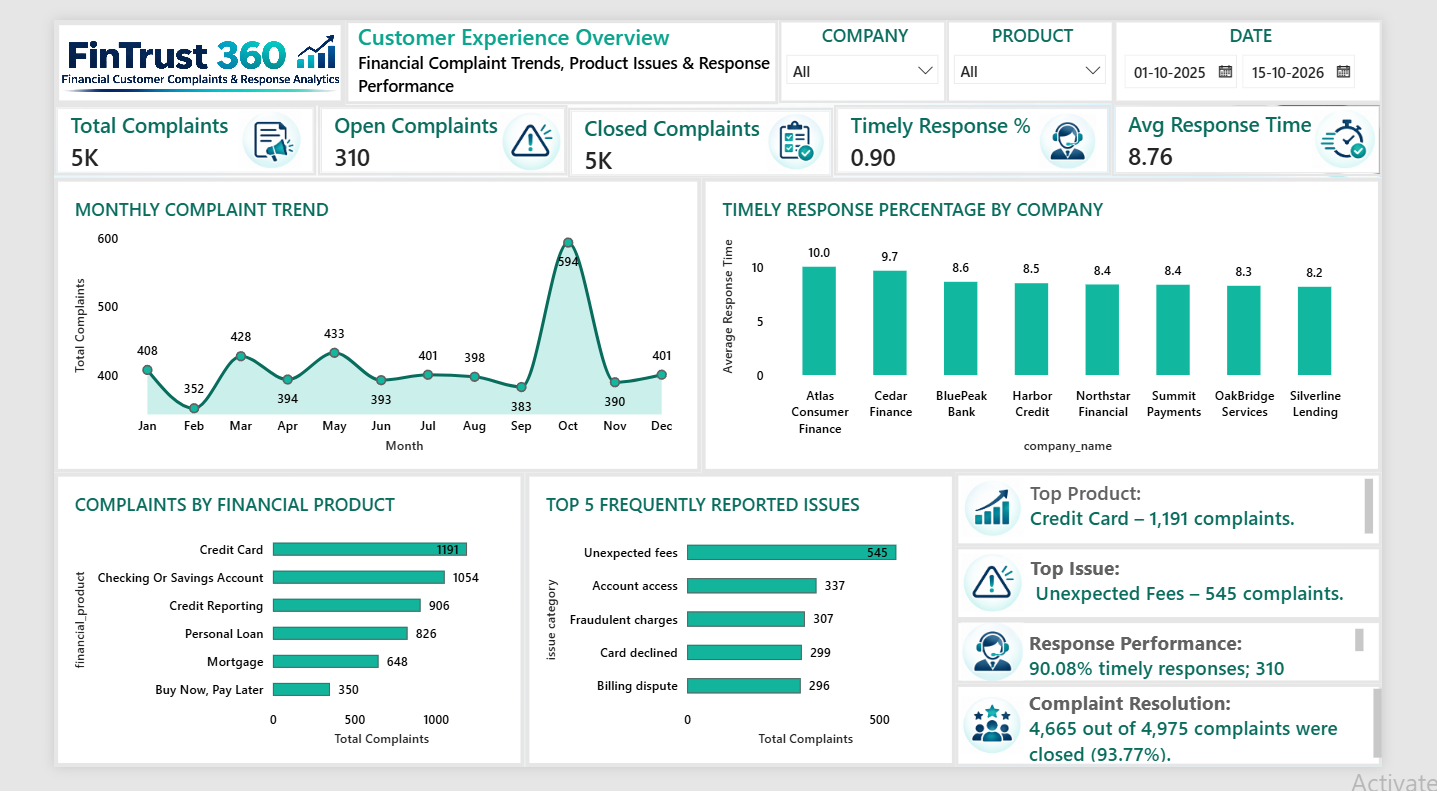

This screenshot's page, from the dashboard's own definition file:
{"tool":"powerbi","page":{"name":"Page 1","canvas":[1280,720],"ordinal":0},"visuals":[{"type":"shape","box":[0,0,281.2,82.5],"z":0},{"type":"image","box":[0,0,281.2,85],"z":1000},{"type":"shape","box":[281.2,0,417.5,81.2],"z":2000},{"type":"textbox","box":[292.5,1.2,467.5,68.8],"z":3000},{"type":"cardVisual","fields":{"Data":["FinTrust.Total Complaints"]},"box":[0,82.5,253.8,68.8],"z":4000},{"type":"cardVisual","fields":{"Data":["FinTrust.Open Complaints"]},"box":[253.8,82.5,241.2,68.8],"z":5000},{"type":"cardVisual","fields":{"Data":["FinTrust.Timely Response %"]},"box":[751.2,82.5,267.5,68.8],"z":6000},{"type":"cardVisual","fields":{"Data":["FinTrust.Closed Complaints"]},"box":[495,83.8,256.2,68.8],"z":7000},{"type":"cardVisual","fields":{"Data":["FinTrust.Average Response Time"]},"box":[1018.8,80,261.2,71.2],"z":8000},{"type":"lineChart","title":"MONTHLY COMPLAINT TREND","fields":{"Y":["FinTrust.Total Complaints"],"Category":["Calendar.Month"]},"box":[0,151.2,623.8,285],"z":9000},{"type":"clusteredBarChart","title":"COMPLAINTS BY FINANCIAL PRODUCT ","fields":{"Y":["FinTrust.Total Complaints"],"Category":["FinTrust.financial_product"]},"box":[0,436.2,453.8,283.8],"z":10000},{"type":"clusteredBarChart","title":"TOP 5 FREQUENTLY REPORTED ISSUES","fields":{"Y":["FinTrust.Total Complaints"],"Category":["FinTrust.issue_category"]},"box":[453.8,436.2,415,283.8],"z":11000},{"type":"clusteredColumnChart","title":"TIMELY RESPONSE PERCENTAGE  BY COMPANY","fields":{"Category":["FinTrust.company_name"],"Y":["FinTrust.Average Response Time"]},"box":[623.8,151.2,656.2,285],"z":12000},{"type":"slicer","title":"COMPANY","fields":{"Values":["FinTrust.company_name"]},"box":[698.8,0,161.2,80],"z":13000},{"type":"slicer","title":"PRODUCT","fields":{"Values":["FinTrust.financial_product"]},"box":[860,0,161.2,80],"z":14000},{"type":"slicer","title":"DATE","fields":{"Values":["Calendar.Date"]},"box":[1021.2,0,258.8,80],"z":15000},{"type":"shape","box":[868.8,436.2,411.2,71.2],"z":16000},{"type":"textbox","box":[941.2,442.5,330,60],"z":17000},{"type":"shape","box":[868.8,507.5,411.2,71.2],"z":18000},{"type":"shape","box":[868.8,578.8,411.2,61.2],"z":19000},{"type":"shape","box":[868.8,640,411.2,80],"z":20000},{"type":"textbox","box":[941.2,515,331.2,71.2],"z":21000},{"type":"textbox","box":[940,586.2,322.5,48.8],"z":22000},{"type":"textbox","box":[940,645,340,70],"z":23000},{"type":"image","box":[172.5,86.2,71.2,56.2],"z":24000},{"type":"image","box":[423.8,88.8,71.2,56.2],"z":25000},{"type":"image","box":[680,90,71.2,56.2],"z":26000},{"type":"image","box":[941.2,90,71.2,52.5],"z":27000},{"type":"image","box":[1208.8,86.2,71.2,56.2],"z":28000},{"type":"image","box":[868.8,442.5,71.2,56.2],"z":29000},{"type":"image","box":[868.8,515,71.2,56.2],"z":30000},{"type":"image","box":[868.8,581.2,71.2,56.2],"z":31000},{"type":"image","box":[868.8,651.2,71.2,56.2],"z":32000}]}

Visuals, with their boxes in screenshot pixels (x1, y1, x2, y2), scaled from the page's 1280x720 canvas onto the 1437x791 screenshot:
shape: bbox=(0, 0, 316, 91)
image: bbox=(0, 0, 316, 93)
shape: bbox=(316, 0, 784, 89)
textbox: bbox=(328, 1, 853, 77)
cardVisual - FinTrust.Total Complaints: bbox=(0, 91, 285, 166)
cardVisual - FinTrust.Open Complaints: bbox=(285, 91, 556, 166)
cardVisual - FinTrust.Timely Response %: bbox=(843, 91, 1144, 166)
cardVisual - FinTrust.Closed Complaints: bbox=(556, 92, 843, 168)
cardVisual - FinTrust.Average Response Time: bbox=(1144, 88, 1436, 166)
"MONTHLY COMPLAINT TREND" lineChart: bbox=(0, 166, 700, 479)
"COMPLAINTS BY FINANCIAL PRODUCT " clusteredBarChart: bbox=(0, 479, 509, 790)
"TOP 5 FREQUENTLY REPORTED ISSUES" clusteredBarChart: bbox=(509, 479, 975, 790)
"TIMELY RESPONSE PERCENTAGE  BY COMPANY" clusteredColumnChart: bbox=(700, 166, 1436, 479)
"COMPANY" slicer: bbox=(785, 0, 965, 88)
"PRODUCT" slicer: bbox=(965, 0, 1146, 88)
"DATE" slicer: bbox=(1146, 0, 1436, 88)
shape: bbox=(975, 479, 1436, 557)
textbox: bbox=(1057, 486, 1427, 552)
shape: bbox=(975, 558, 1436, 636)
shape: bbox=(975, 636, 1436, 703)
shape: bbox=(975, 703, 1436, 790)
textbox: bbox=(1057, 566, 1428, 644)
textbox: bbox=(1055, 644, 1417, 698)
textbox: bbox=(1055, 709, 1436, 786)
image: bbox=(194, 95, 274, 156)
image: bbox=(476, 98, 556, 159)
image: bbox=(763, 99, 843, 161)
image: bbox=(1057, 99, 1137, 157)
image: bbox=(1357, 95, 1436, 156)
image: bbox=(975, 486, 1055, 548)
image: bbox=(975, 566, 1055, 628)
image: bbox=(975, 639, 1055, 700)
image: bbox=(975, 715, 1055, 777)
